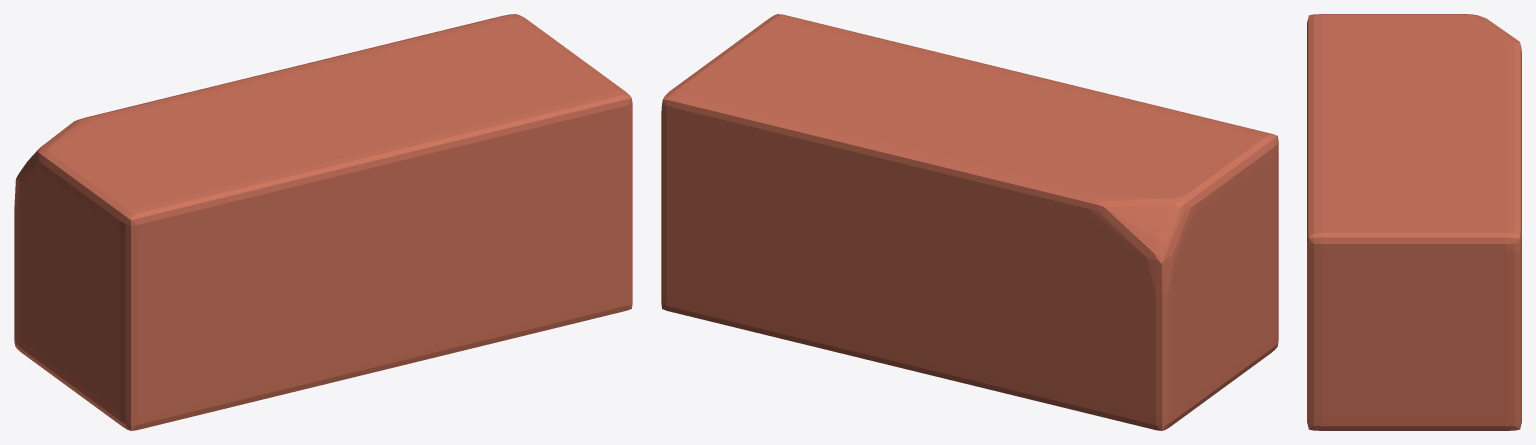
The model's file is left_shoulder_pitch_link_part_9.obj.
The picture shows the model from 3 angles, left to right: view 1: azimuth 30°, elevation 25°; view 2: azimuth 150°, elevation 25°; view 3: azimuth 270°, elevation 25°; orthographic projection. The views are drawn at different scales.
Bounding box in the file's own units: 0.0673 × 0.0274 × 0.0271.
